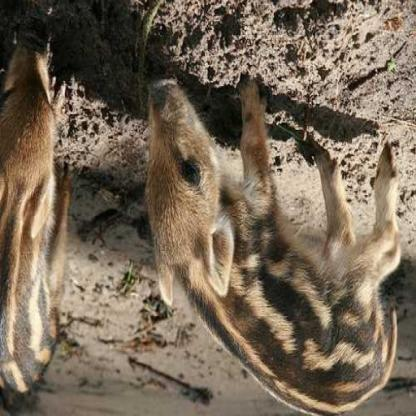boar: (133, 84, 415, 390), (0, 27, 103, 416)
